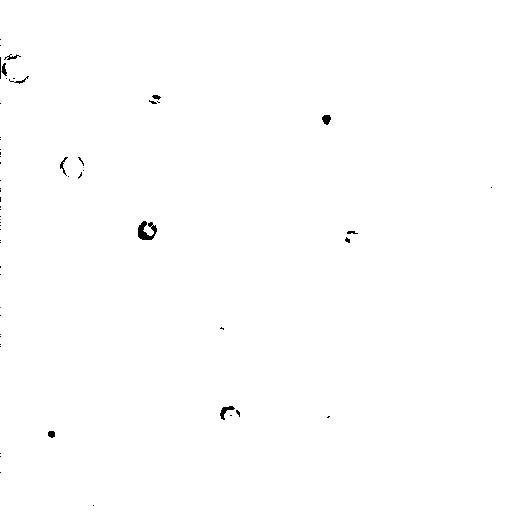micro-algae: (478, 160, 512, 207), (129, 212, 168, 248), (36, 415, 70, 451), (309, 103, 345, 134), (0, 51, 33, 83), (58, 152, 87, 181), (337, 226, 367, 253), (221, 405, 243, 425), (404, 501, 436, 511)
